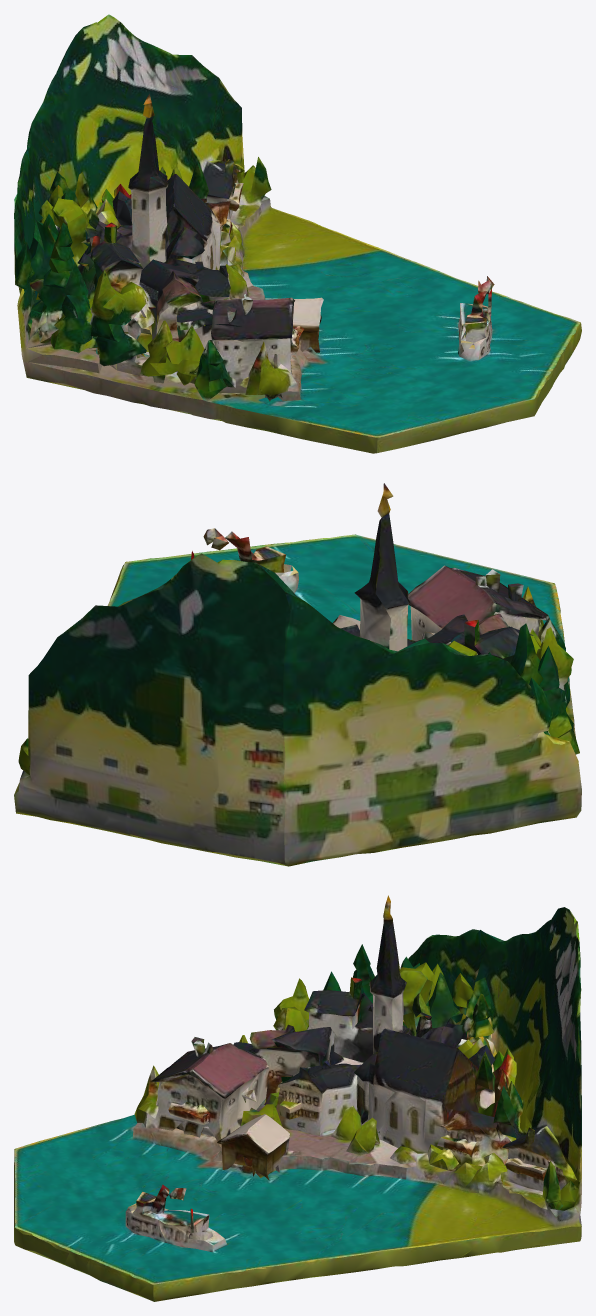
Rendered from st-wolfgang.glb.
3 views of the same model, one above another, from view 1: azimuth 30°, elevation 25°; view 2: azimuth 150°, elevation 25°; view 3: azimuth 270°, elevation 25° (orthographic). The views are drawn at different scales.
Visible parts, largest first — view 1: logan-textured.obj; view 2: logan-textured.obj; view 3: logan-textured.obj.
Boxes of the visible parts, <box> form: logan-textured.obj: <box>14,14,581,453</box>; logan-textured.obj: <box>14,483,581,866</box>; logan-textured.obj: <box>14,895,581,1301</box>.
Bounding box in the file's own units: 0.9647 × 0.4828 × 1.
Materials: 1 (1 with a texture image).
